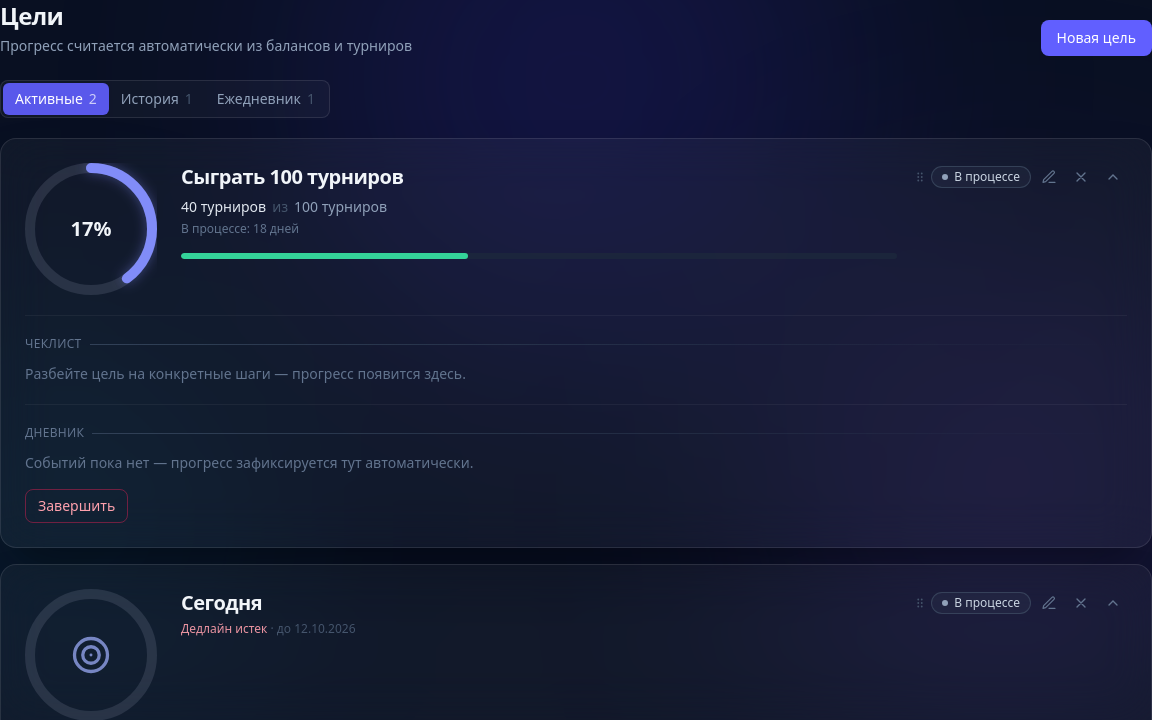
GoalsPage daily tab › navigates between months with the picker
Click the tab "Ежедневник1" at (266, 99), box [205, 83, 327, 115]
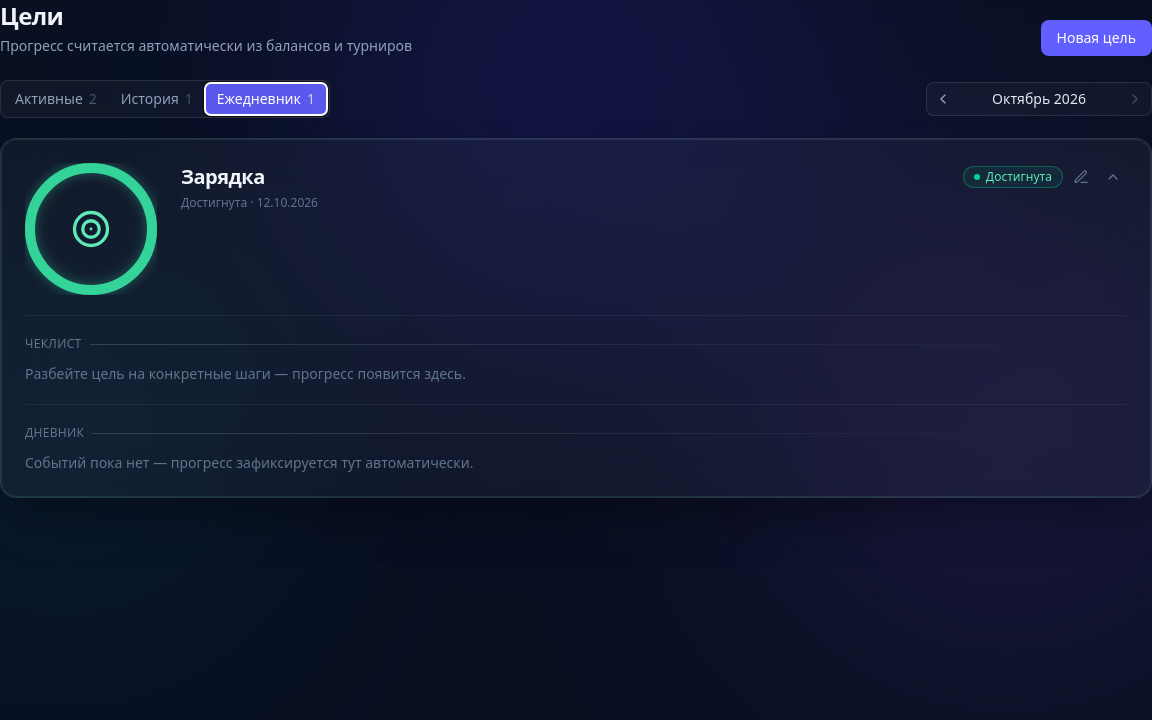
Expected: the button named "Следующий месяц" is disabled, [1121, 85, 1149, 113]
Expected: the heading "Зарядка" is shown, [181, 163, 265, 190]
Click the button named "Предыдущий месяц" at (943, 99), box [929, 85, 957, 113]
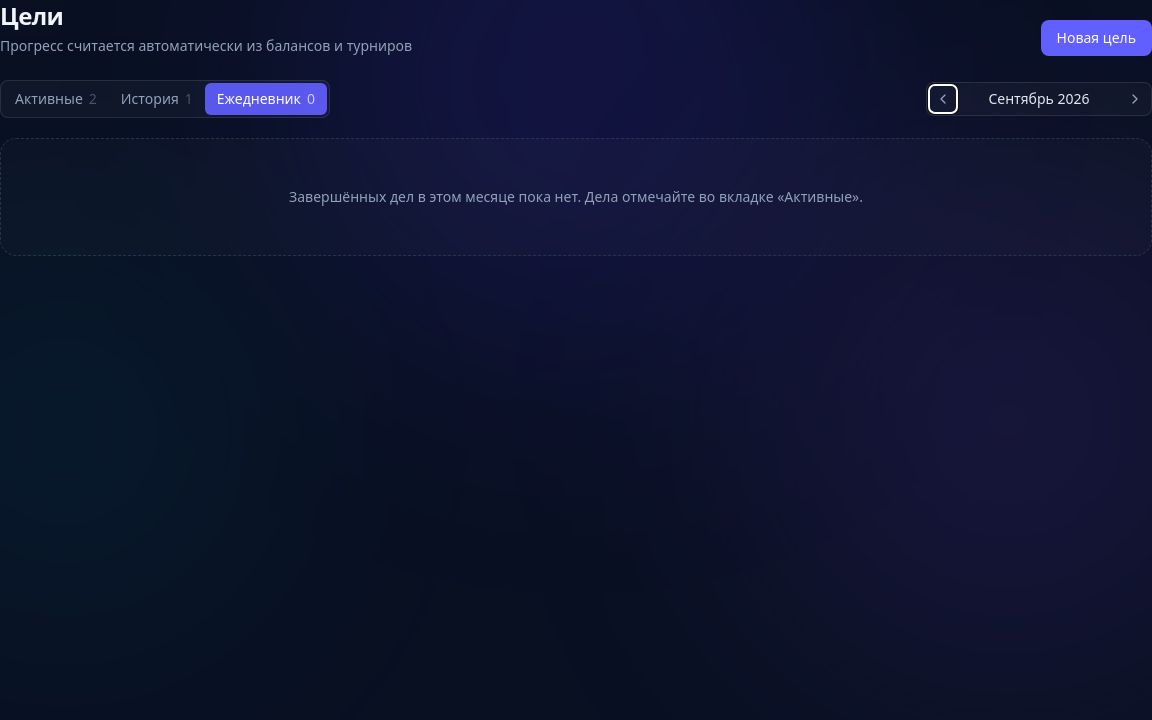
Expected: the text "Завершённых дел в этом месяце пока нет" is shown, [289, 187, 863, 206]
Expected: the button "Зарядка" is gone
Click the button named "Следующий месяц" at (1135, 99), box [1121, 85, 1149, 113]
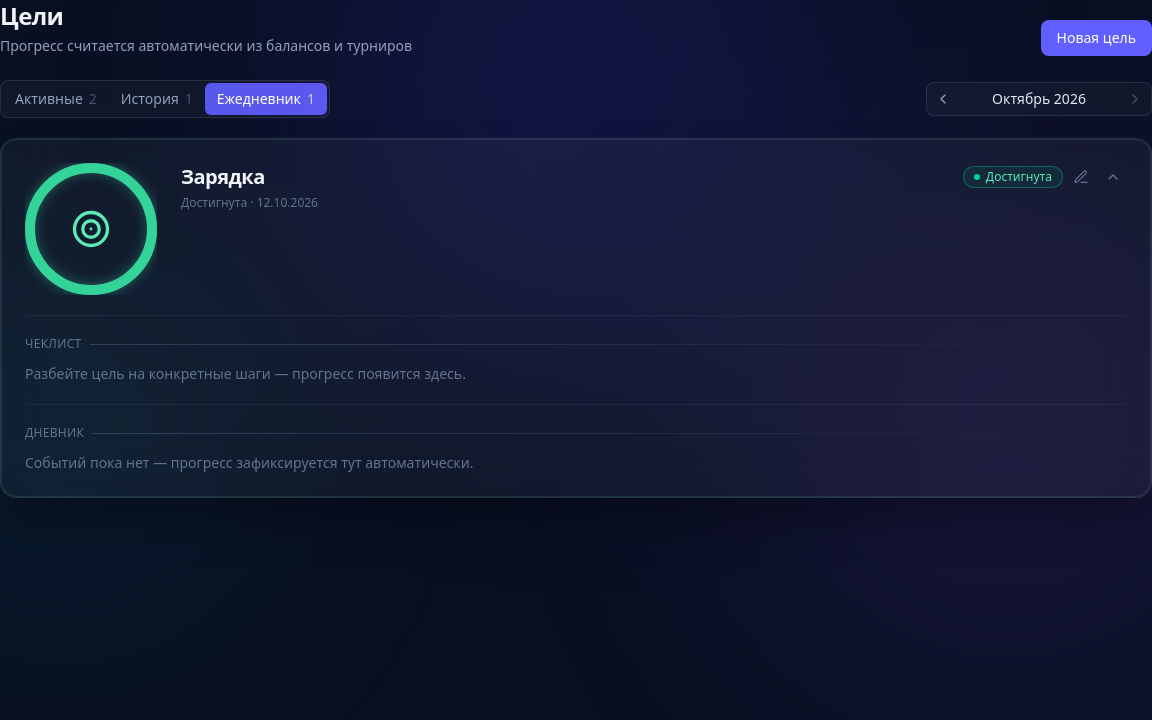
Expected: the heading "Зарядка" is shown, [181, 163, 265, 190]
